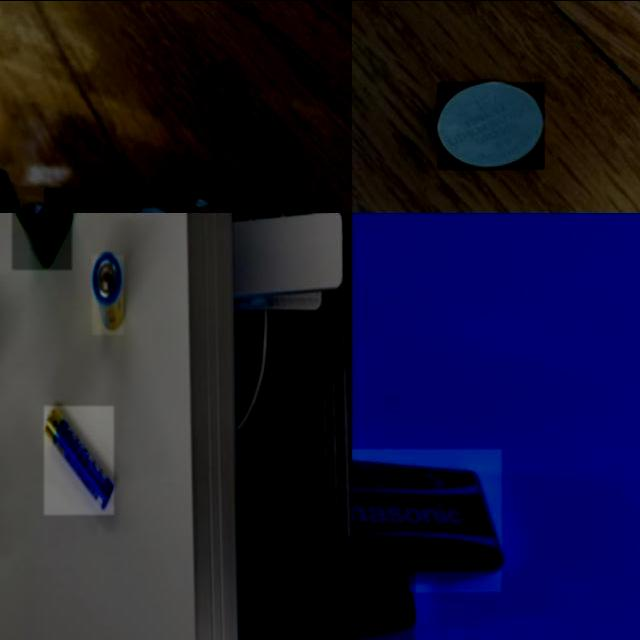9V: (352, 448, 502, 593), (11, 212, 72, 269)
